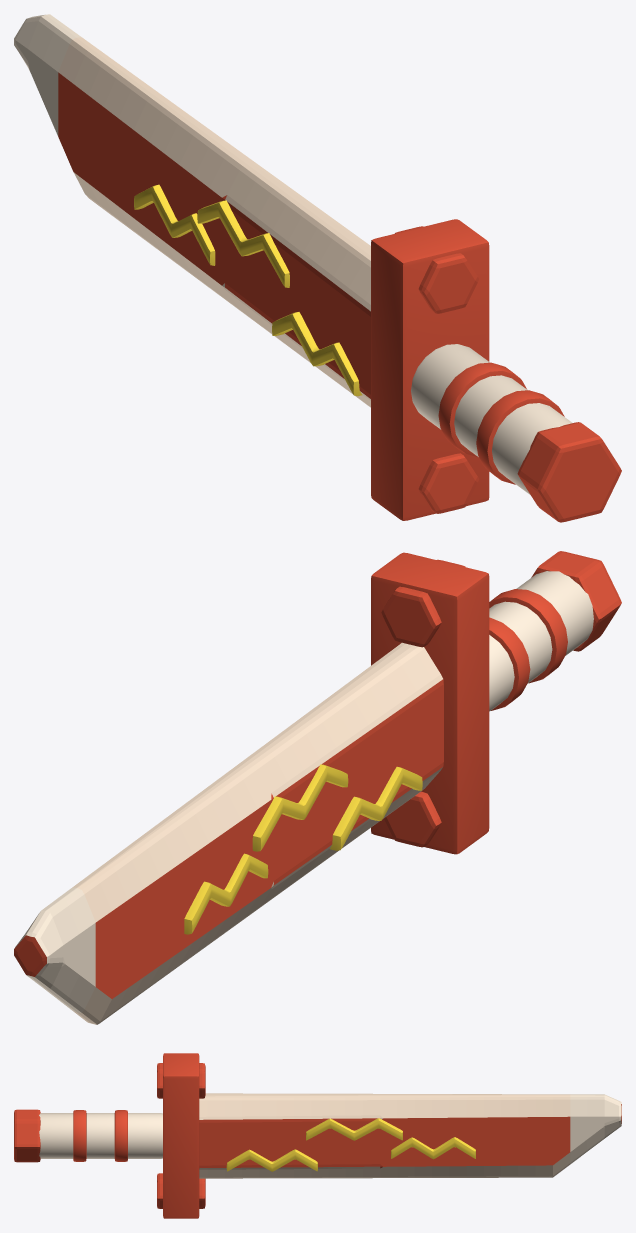
File: Sword_BasaltClaymore.glb
3 views of the same model, one above another, from view 1: azimuth 30°, elevation 25°; view 2: azimuth 150°, elevation 25°; view 3: azimuth 270°, elevation 25° (orthographic). The views are drawn at different scales.
Parts seen in each view (by area): view 1: Sword_BasaltClaymore; view 2: Sword_BasaltClaymore; view 3: Sword_BasaltClaymore.
Boxes of the visible parts, <box> form: Sword_BasaltClaymore: <box>14,14,621,522</box>; Sword_BasaltClaymore: <box>14,551,621,1024</box>; Sword_BasaltClaymore: <box>14,1053,621,1218</box>.
Size of the model in its own units: 0.092 by 0.26 by 1.
1 material, 1 textured.
